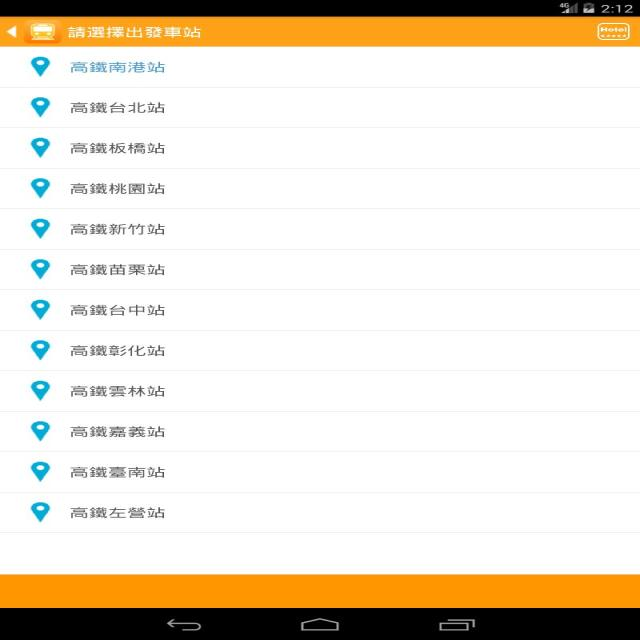button: (0, 86, 640, 129), (0, 170, 640, 212), (0, 411, 640, 452), (0, 493, 640, 533), (0, 129, 639, 169), (1, 291, 640, 331), (4, 46, 636, 86), (0, 332, 640, 371), (1, 211, 640, 250), (1, 371, 640, 410), (0, 453, 640, 491), (1, 251, 640, 289), (597, 19, 635, 43), (6, 21, 21, 45)
heading: (67, 21, 205, 43)
image: (24, 20, 62, 44), (24, 458, 53, 485), (26, 335, 52, 364), (26, 134, 52, 162), (26, 377, 52, 405), (26, 296, 52, 323), (26, 55, 54, 79), (26, 94, 54, 118), (24, 258, 52, 282), (27, 217, 52, 242), (27, 176, 53, 200), (29, 419, 52, 443), (29, 498, 48, 522)
text: (61, 218, 173, 240), (64, 136, 170, 159), (64, 257, 171, 279), (64, 339, 170, 361), (64, 178, 170, 199), (66, 97, 174, 117), (62, 461, 172, 480), (67, 57, 169, 77), (64, 382, 166, 401), (64, 301, 169, 318), (65, 423, 169, 440), (69, 503, 167, 520)
